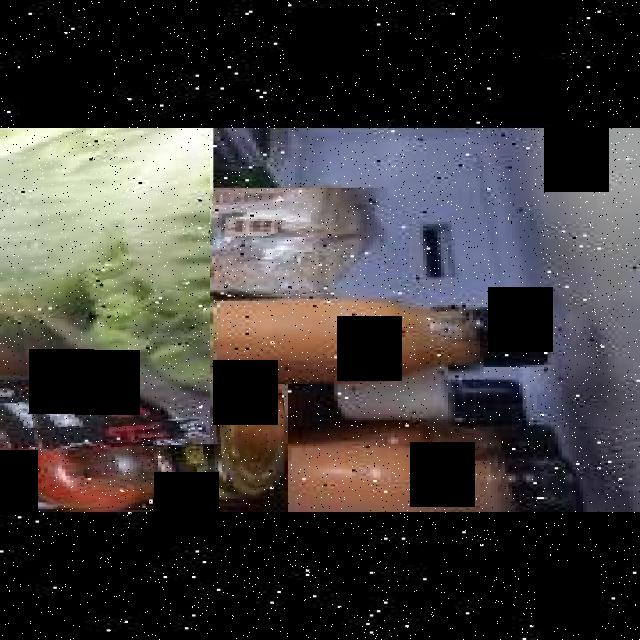bread: (121, 188, 384, 298)
salad: (0, 128, 210, 450)
tomato_sauce: (0, 384, 284, 512)
